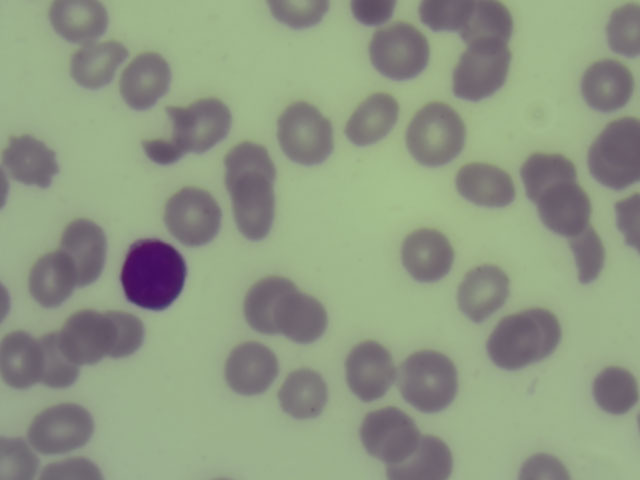RBC: (588, 117, 640, 189), (455, 39, 512, 103), (58, 217, 107, 286), (399, 229, 455, 284), (224, 342, 280, 397), (273, 291, 329, 346), (32, 401, 88, 456), (556, 229, 612, 284), (537, 181, 593, 236), (518, 149, 574, 204), (577, 58, 633, 113), (456, 158, 512, 213), (406, 107, 462, 162), (94, 308, 150, 363), (57, 307, 113, 362), (24, 332, 80, 387), (26, 253, 82, 308), (347, 93, 403, 148), (371, 23, 427, 78), (276, 107, 332, 162), (226, 181, 282, 236), (222, 140, 278, 195), (140, 106, 196, 161), (177, 98, 233, 153), (114, 54, 170, 109), (64, 38, 120, 93), (360, 406, 416, 461), (454, 265, 510, 320), (402, 351, 458, 406), (342, 340, 398, 395), (584, 363, 640, 418), (484, 314, 540, 369), (240, 275, 294, 332), (1, 133, 56, 188), (458, 1, 518, 51), (387, 434, 451, 480), (49, 1, 113, 40), (1, 330, 40, 389), (267, 1, 337, 32), (528, 306, 564, 366), (603, 1, 640, 58), (512, 451, 574, 480), (1, 432, 35, 480), (611, 195, 640, 251), (349, 1, 403, 31), (418, 1, 468, 31)
WBC: (115, 232, 188, 313)
